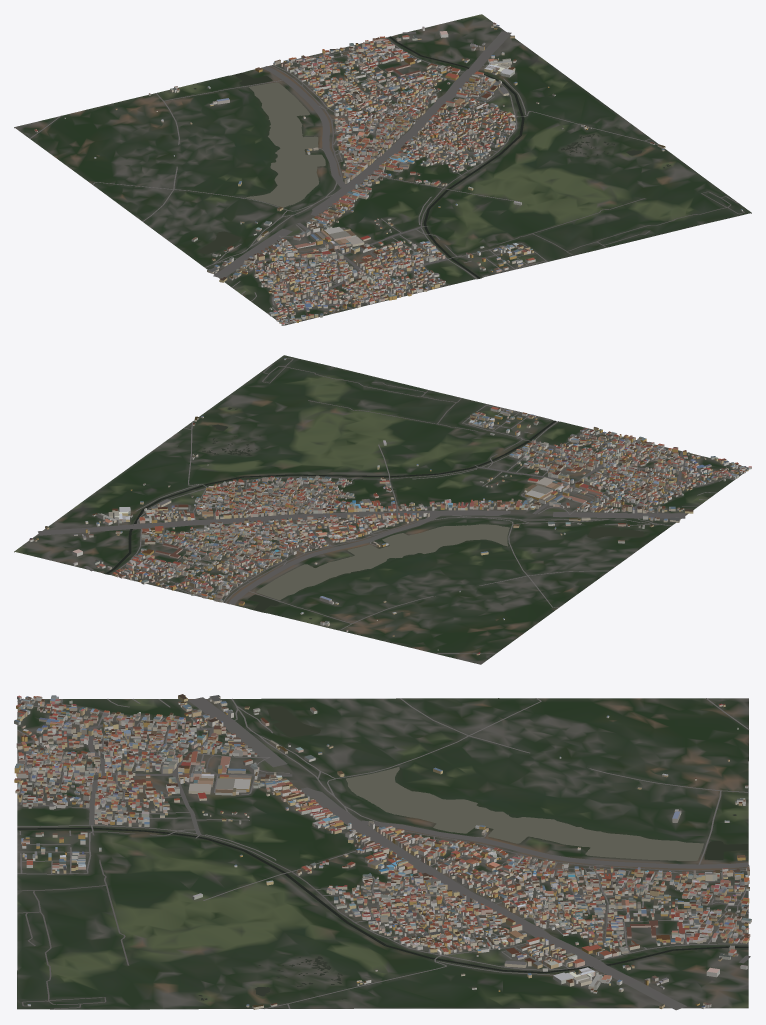
3 renders of one model, top to bottom at view 1: azimuth 30°, elevation 25°; view 2: azimuth 150°, elevation 25°; view 3: azimuth 270°, elevation 25°, orthographic. The views are drawn at different scales.
Parts seen in each view (by area): view 1: ground, buildings, roads, water; view 2: ground, buildings, roads, water; view 3: ground, buildings, roads, water.
Part boxes in pixels (left/top/right/bottom): ground: left=14, top=14, right=751, bottom=325; buildings: left=34, top=22, right=742, bottom=325; roads: left=29, top=31, right=744, bottom=324; water: left=193, top=36, right=670, bottom=278; ground: left=14, top=355, right=749, bottom=664; buildings: left=29, top=358, right=751, bottom=655; roads: left=38, top=358, right=746, bottom=653; water: left=105, top=407, right=643, bottom=619; ground: left=17, top=698, right=748, bottom=1009; buildings: left=14, top=694, right=751, bottom=1009; roads: left=16, top=697, right=750, bottom=1010; water: left=17, top=706, right=748, bottom=1000.
Size of the model in its own units: 1421 by 20.92 by 1414.
